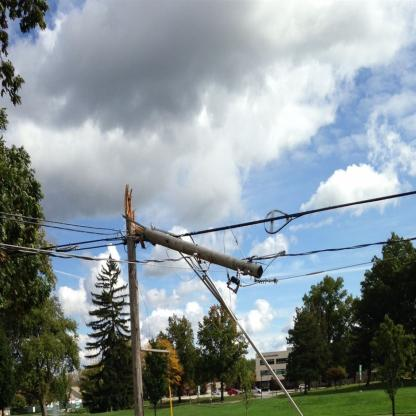Electrical Pole: (137, 209, 273, 302), (116, 181, 151, 407)
